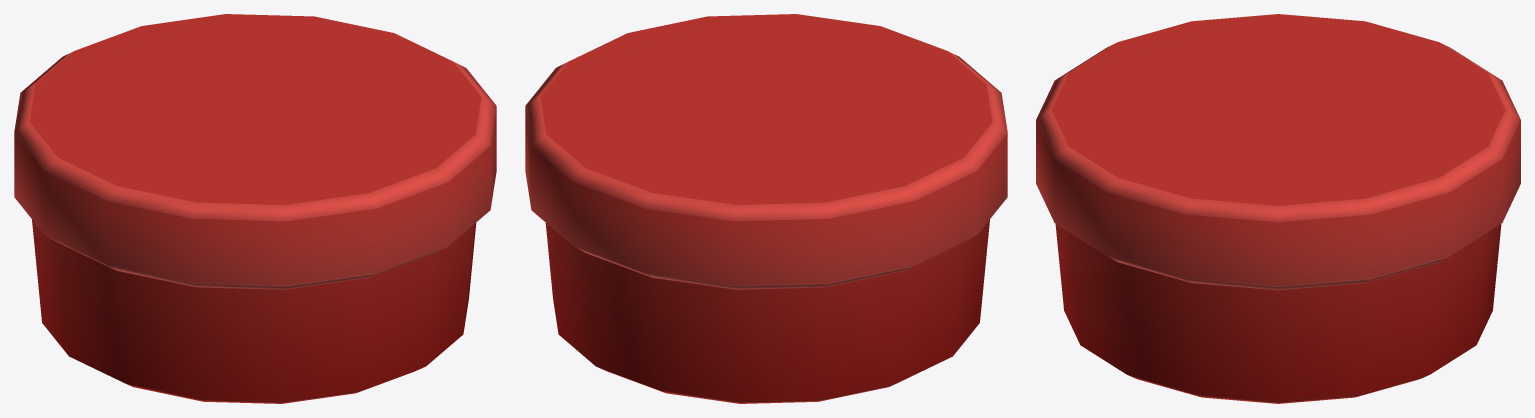
Rendered from giftbox_006.fbx.
3 views of the same model, side by side, from view 1: azimuth 30°, elevation 25°; view 2: azimuth 150°, elevation 25°; view 3: azimuth 270°, elevation 25° (orthographic).
Visible parts, largest first — view 1: giftbox_006; view 2: giftbox_006; view 3: giftbox_006.
Part boxes in pixels (x1,y1,x2,y2): giftbox_006: (14, 14, 496, 403); giftbox_006: (525, 14, 1007, 403); giftbox_006: (1036, 14, 1520, 403).
Size of the model in its own units: 226 by 226 by 108.
